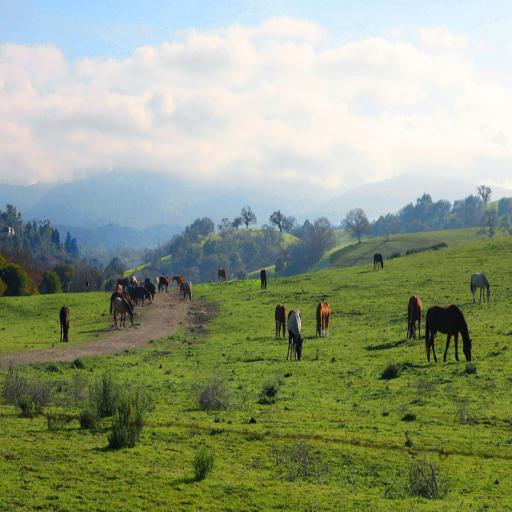horse: (424, 303, 472, 365), (110, 274, 156, 328), (286, 308, 304, 360), (470, 270, 492, 304), (408, 293, 423, 341), (316, 298, 330, 337), (274, 304, 288, 338), (59, 306, 71, 345), (178, 281, 192, 303), (156, 276, 171, 291), (170, 275, 186, 287), (260, 267, 268, 290), (374, 250, 383, 269), (216, 268, 226, 284)
